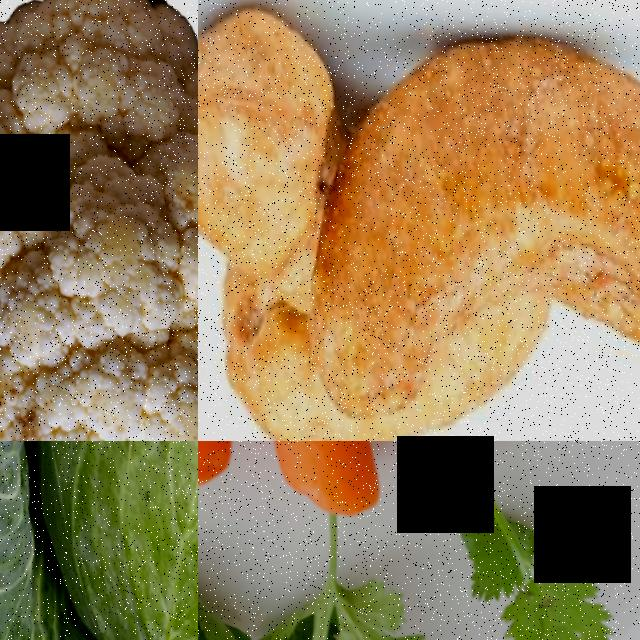cabbage: (0, 441, 198, 640)
carrot: (229, 441, 384, 531)
cashew: (325, 0, 640, 378), (198, 11, 312, 316)
cauliflower: (0, 0, 198, 441)
